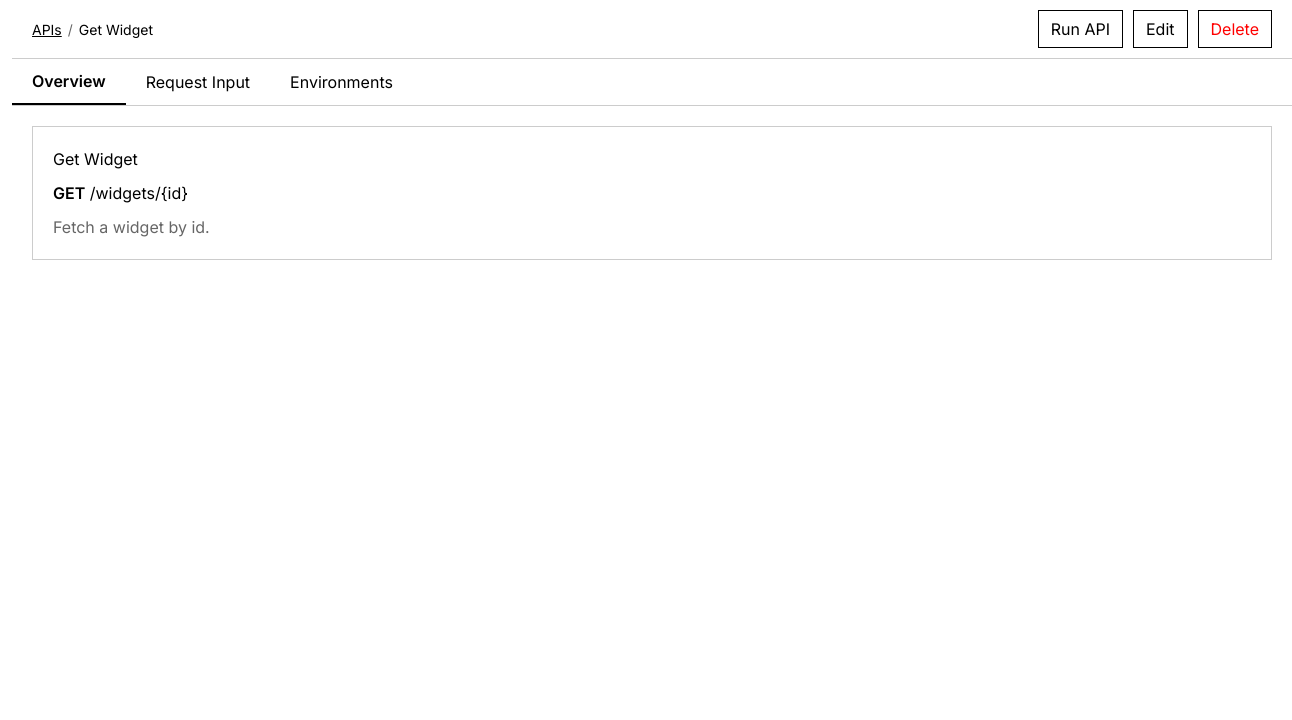
Test: ApiDetailScreen — tabs › renders the Request Input tab content when selected, loaded from GET
expect the text "Fetch a widget by id." is shown: met, box [53,217,210,237]
Click the button "Request Input": (198, 82) [126,59,270,105]
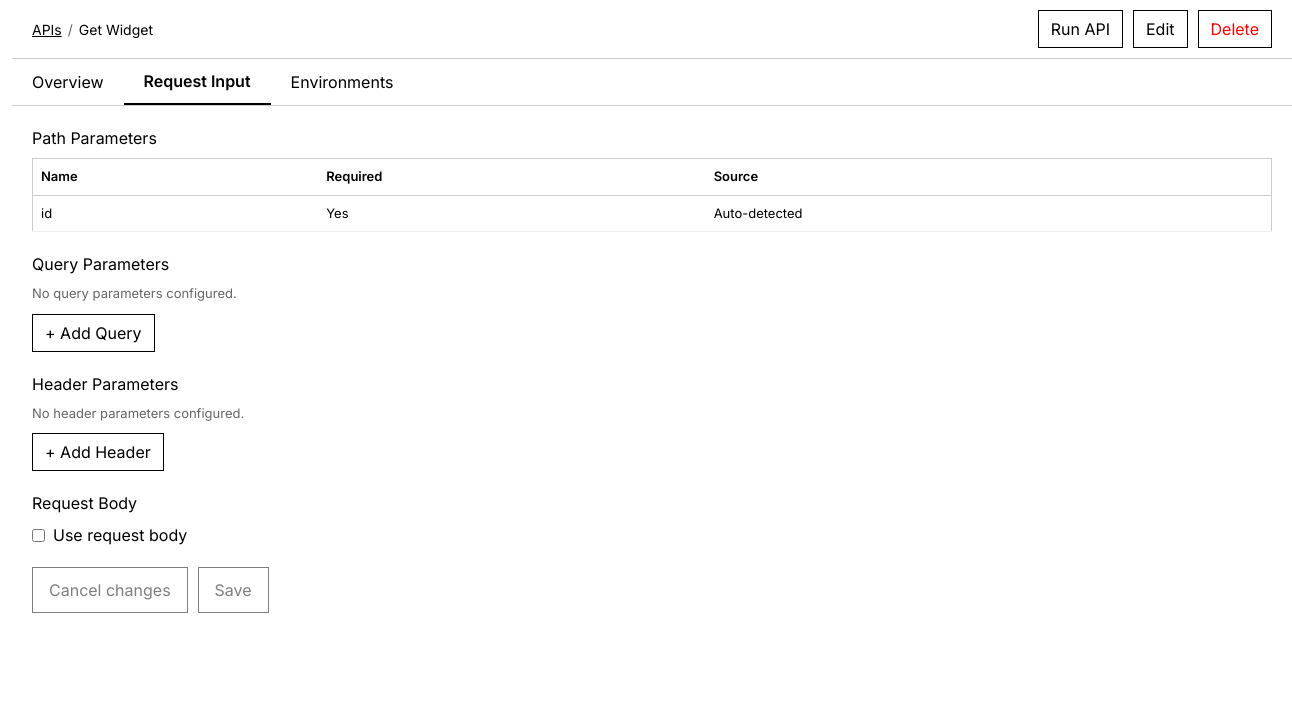
expect the heading "Path Parameters" is shown: met, box [32,128,157,148]
expect the heading "Query Parameters" is shown: met, box [32,254,169,274]
expect the heading "Header Parameters" is shown: met, box [32,374,178,394]
